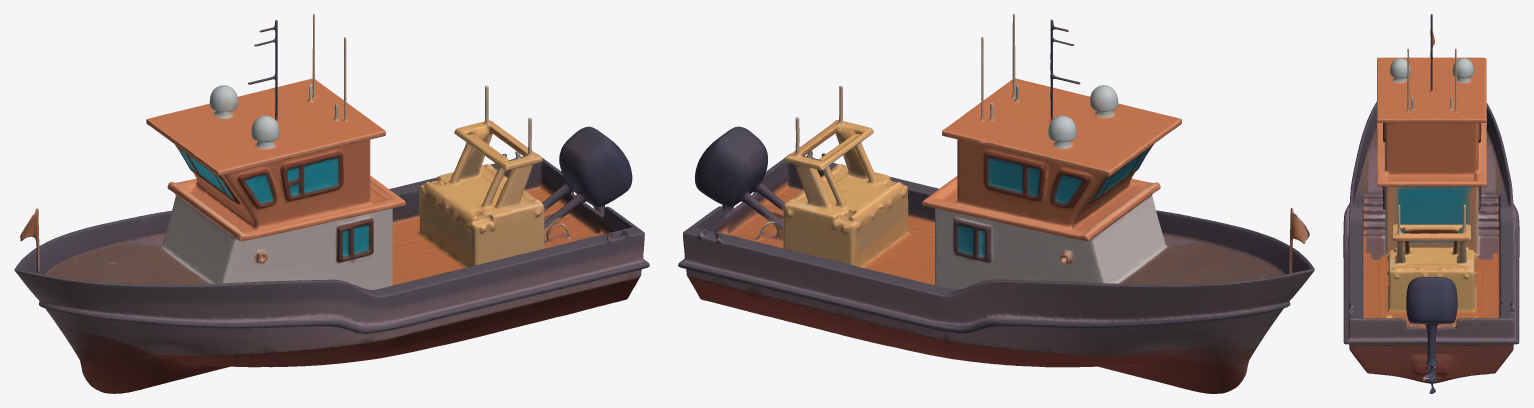
Rendered from oceano_barco.glb.
3 views of the same model, side by side, from view 1: azimuth 30°, elevation 25°; view 2: azimuth 150°, elevation 25°; view 3: azimuth 270°, elevation 25° (orthographic). The views are drawn at different scales.
Bounding box in the file's own units: 1.9 × 1 × 0.6291.
Materials: 1 (1 with a texture image).
